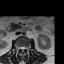CCS_normal: (21, 45, 23, 53)
LFS_normal: (25, 45, 27, 51)
LLS_normal: (23, 45, 25, 51)
RFS_normal: (17, 45, 19, 51)
RLS_normal: (19, 45, 21, 51)
